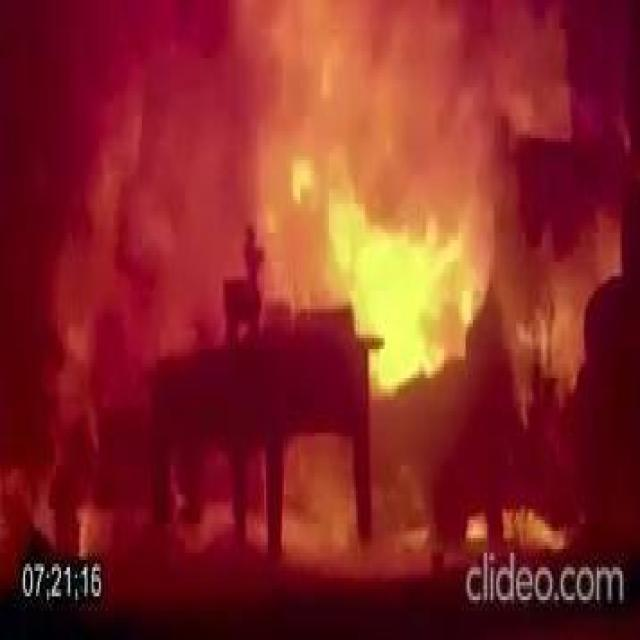smoke: (49, 84, 150, 552), (319, 174, 495, 403), (458, 7, 636, 178), (510, 211, 590, 400), (370, 411, 435, 571), (284, 432, 351, 568), (172, 454, 234, 560), (503, 502, 588, 553), (247, 451, 264, 553), (464, 506, 489, 546)
